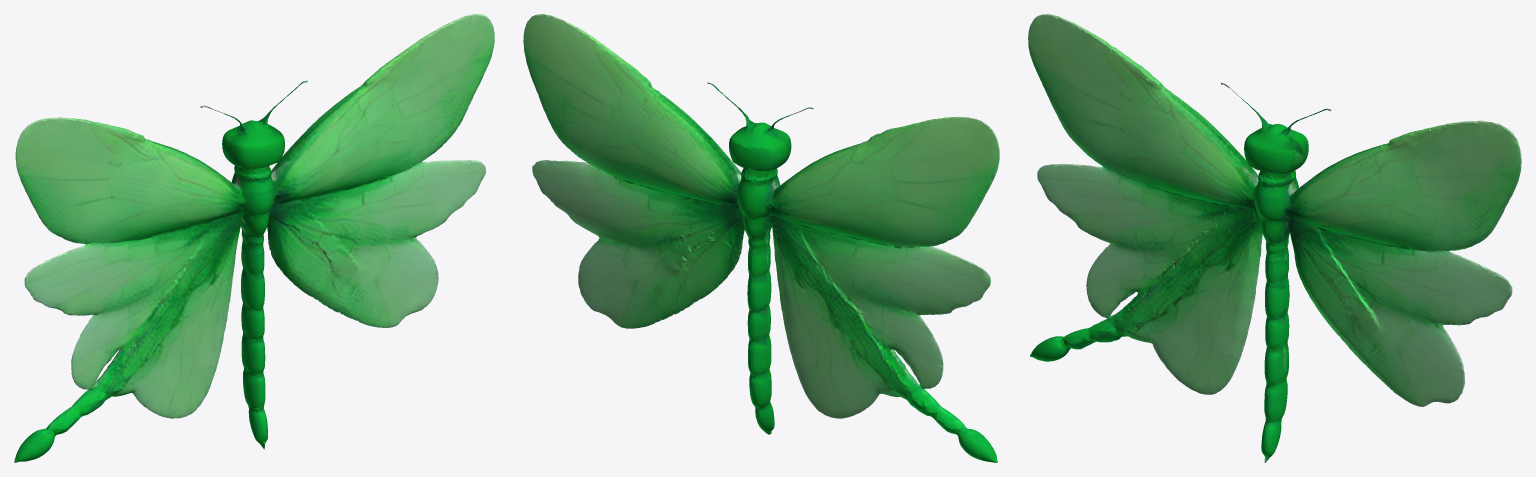
Rendered from mantis_wing_R.glb.
The picture shows the model from 3 angles, left to right: view 1: azimuth 30°, elevation 25°; view 2: azimuth 150°, elevation 25°; view 3: azimuth 330°, elevation 25°; orthographic projection. The views are drawn at different scales.
Parts seen in each view (by area): view 1: mantis_wing_R; view 2: mantis_wing_R; view 3: mantis_wing_R.
Boxes of the visible parts, x1=… form: mantis_wing_R: x1=14, y1=14, x2=494, y2=462; mantis_wing_R: x1=523, y1=14, x2=999, y2=462; mantis_wing_R: x1=1028, y1=14, x2=1521, y2=462.
Size of the model in its own units: 1.89 by 1.42 by 0.1848.
Materials: 1 (1 with a texture image).
